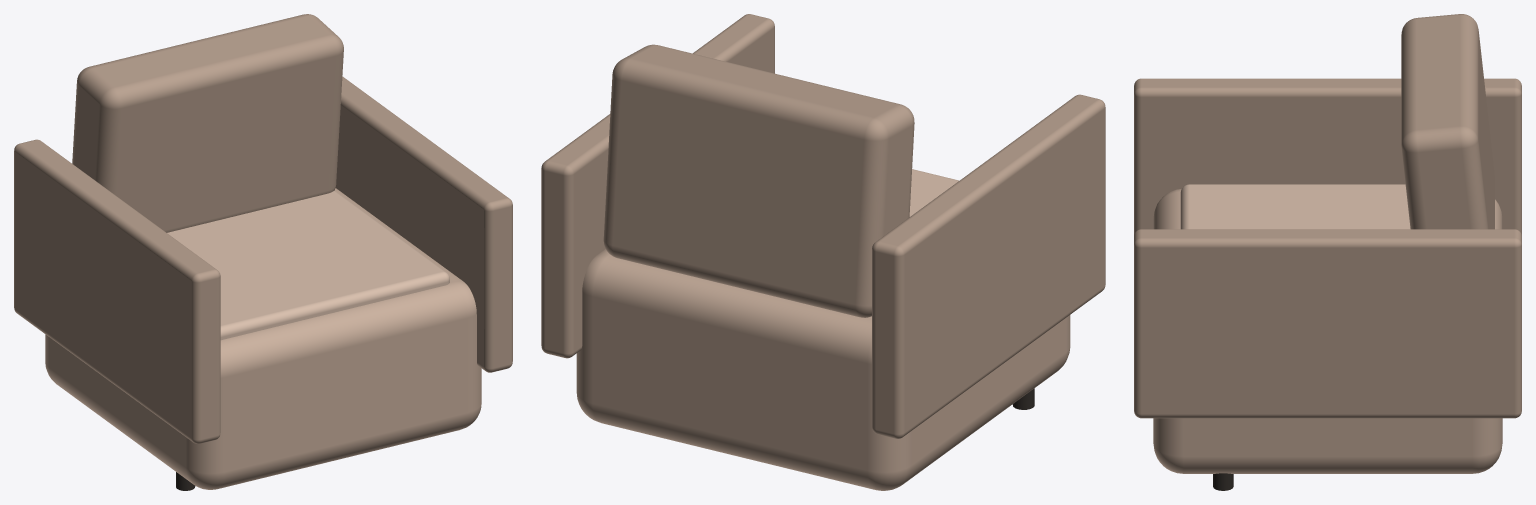
The picture shows the model from 3 angles, left to right: view 1: azimuth 30°, elevation 25°; view 2: azimuth 150°, elevation 25°; view 3: azimuth 270°, elevation 25°; orthographic projection. The views are drawn at different scales.
Parts seen in each view (by area): view 1: seat-base, back-cushion-1, arm-left, seat-cushion-1, arm-right; view 2: back-cushion-1, seat-base, arm-left, arm-right, seat-cushion-1; view 3: arm-right, arm-left, seat-base, back-cushion-1, seat-cushion-1.
Part boxes in pixels (x1,y1,x2,y2): seat-base: (45,188,481,489); back-cushion-1: (72,14,343,232); arm-left: (14,139,220,443); seat-cushion-1: (167,190,449,340); arm-right: (335,76,512,372); back-cushion-1: (603,44,914,317); seat-base: (576,249,1070,490); arm-left: (872,94,1105,438); arm-right: (541,14,774,358); seat-cushion-1: (909,169,958,216); arm-right: (1134,229,1521,418); arm-left: (1134,78,1521,235); seat-base: (1153,189,1502,473); back-cushion-1: (1401,14,1494,229); seat-cushion-1: (1180,184,1410,229).
Size of the model in its own units: 0.9064 by 0.8963 by 0.9.
